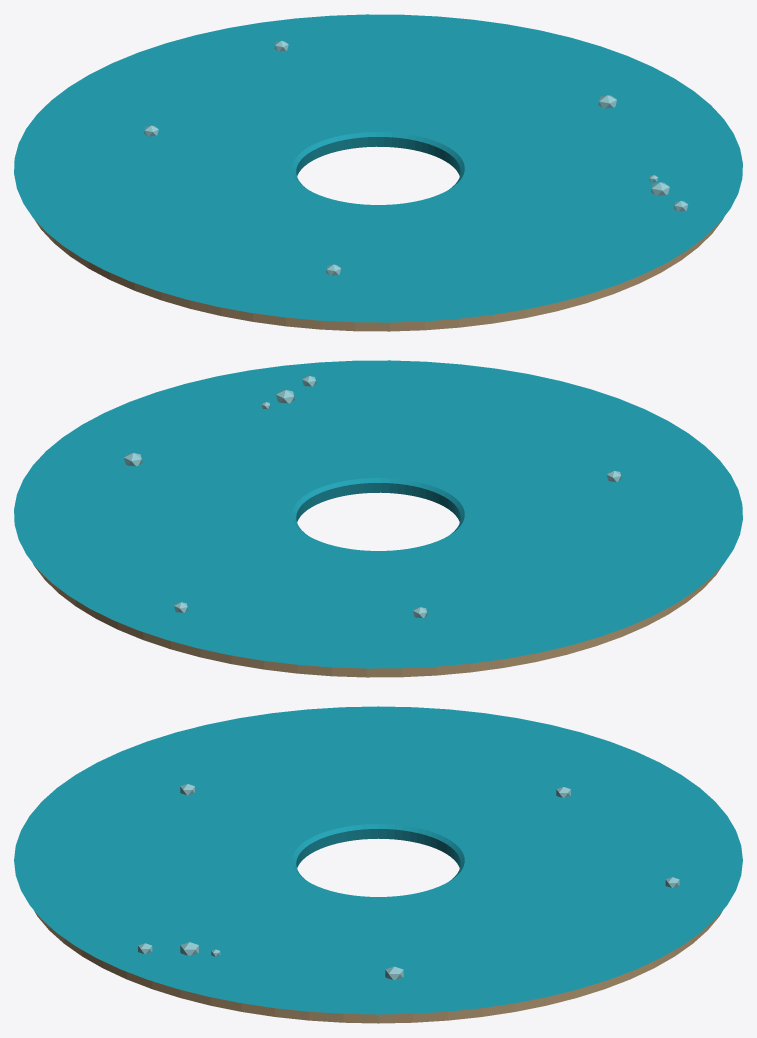
File: goo_jar_deck_2@beach.fbx
3 renders of one model, top to bottom at view 1: azimuth 30°, elevation 25°; view 2: azimuth 150°, elevation 25°; view 3: azimuth 270°, elevation 25°, orthographic.
Parts seen in each view (by area): view 1: goo_jar_deck_2; view 2: goo_jar_deck_2; view 3: goo_jar_deck_2.
Part boxes in pixels (bbox=[...]): goo_jar_deck_2: bbox=[14, 14, 742, 331]; goo_jar_deck_2: bbox=[14, 360, 742, 677]; goo_jar_deck_2: bbox=[14, 706, 742, 1023].
Bounding box in the file's own units: 53.2 × 1.84 × 53.2.
